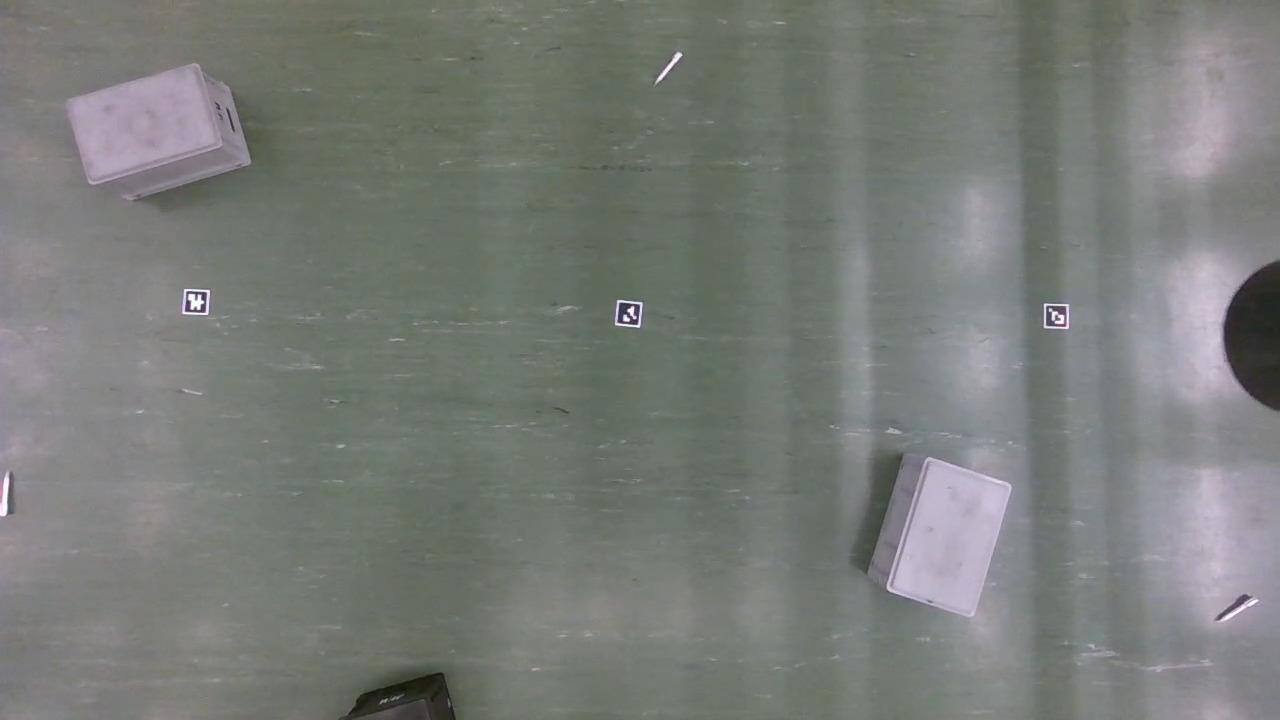probes: (1217, 596, 1257, 623), (657, 52, 681, 86), (0, 472, 12, 517)
rako: (66, 65, 251, 204), (865, 457, 1012, 622), (345, 674, 456, 720)
